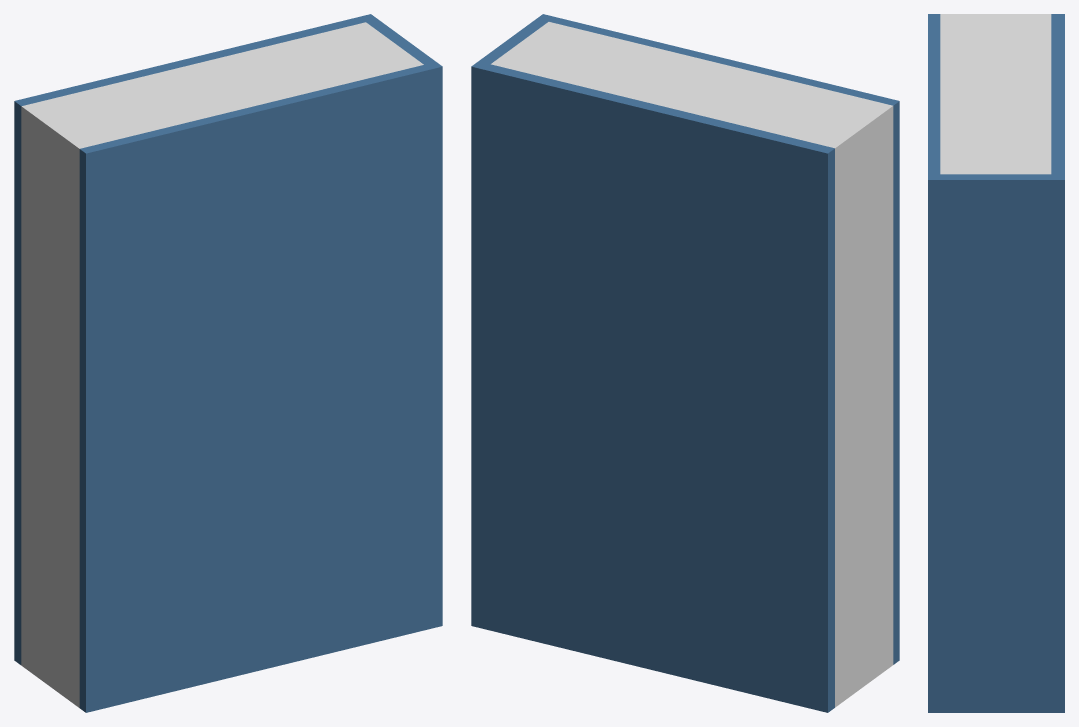
Rendered from BookBlue.fbx.
The picture shows the model from 3 angles, left to right: view 1: azimuth 30°, elevation 25°; view 2: azimuth 150°, elevation 25°; view 3: azimuth 270°, elevation 25°; orthographic projection. The views are drawn at different scales.
Visible parts, largest first — view 1: BookBlue; view 2: BookBlue; view 3: BookBlue.
Part boxes in pixels (x1,y1,x2,y2): BookBlue: (14, 14, 442, 712); BookBlue: (471, 14, 899, 712); BookBlue: (928, 14, 1064, 712).
Bounding box in the file's own units: 21.12 × 31.65 × 7.37.
